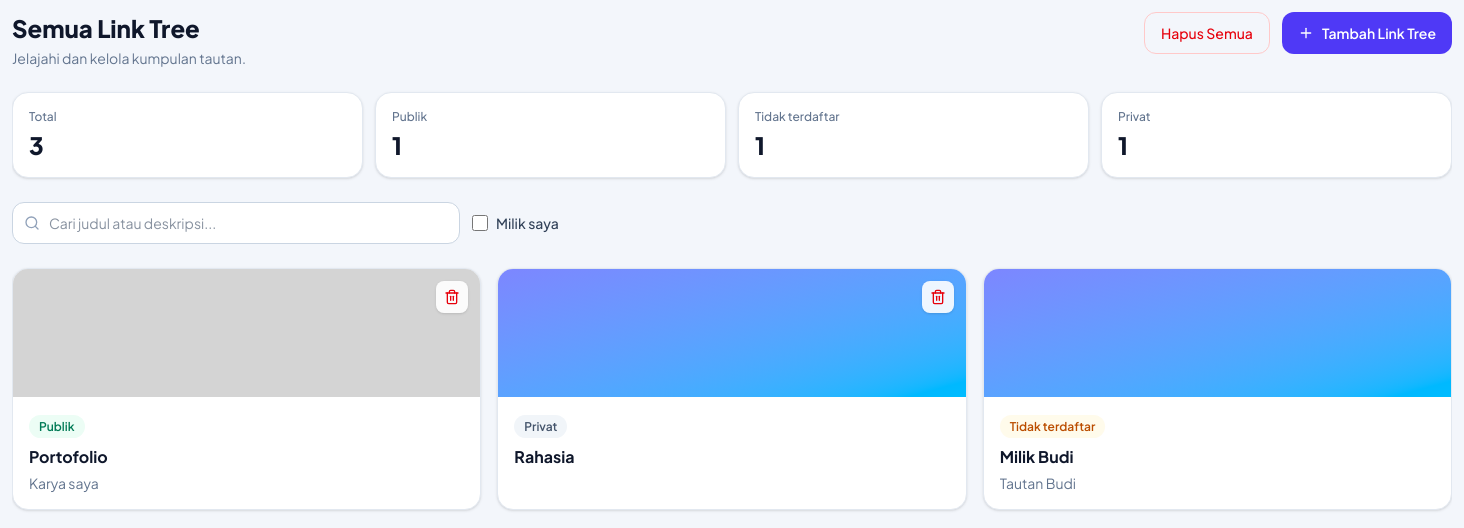
HomePage › hapus satu: dikonfirmasi -> terhapus dan dialog sukses
Expected: the heading "Portofolio" is shown, top-left (29, 446), bottom-right (108, 467)
Click the button named "Hapus Portofolio". click: (452, 297)
box: top-left (436, 281), bottom-right (468, 313)
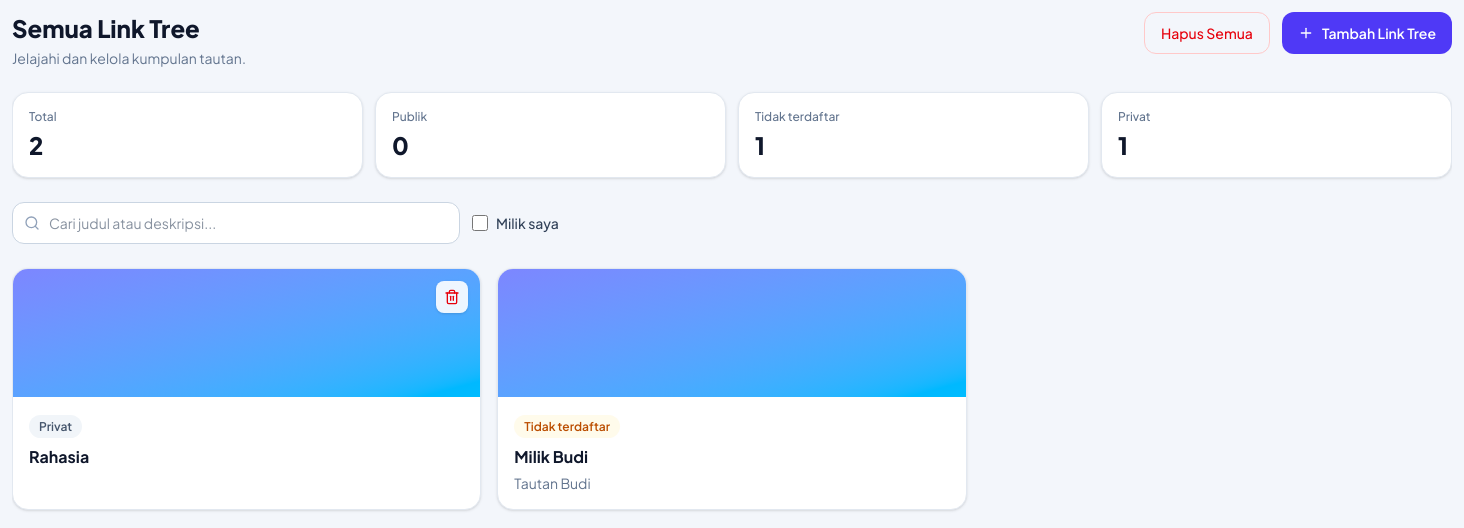
Expected: the link "Portofolio" is gone
